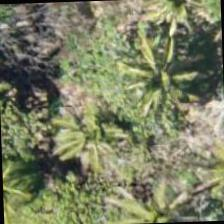Kelapa_Sawit: (108, 20, 201, 113), (109, 170, 202, 223)
